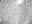person: (18, 1, 23, 5)
